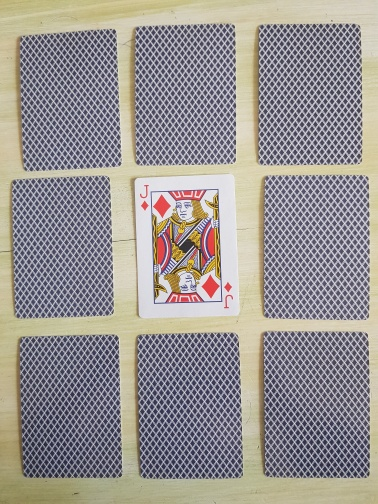jack: (133, 173, 241, 319)
